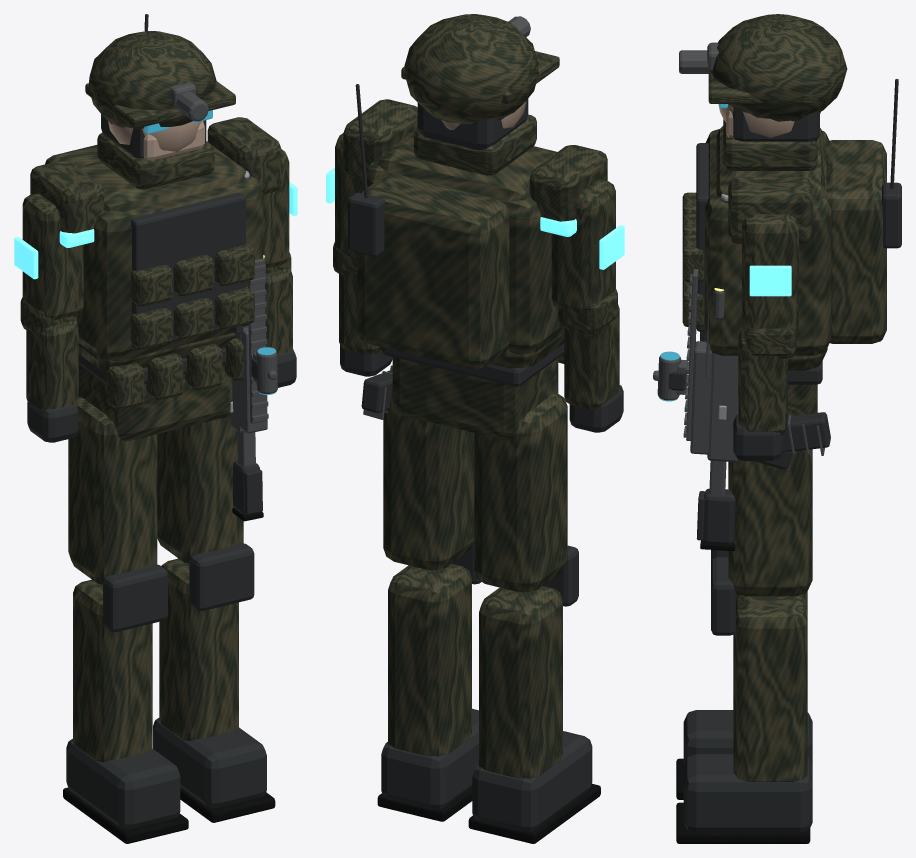
File: soldier_ally.glb
3 renders of one model, left to right at view 1: azimuth 30°, elevation 25°; view 2: azimuth 150°, elevation 25°; view 3: azimuth 270°, elevation 25°, orthographic. The views are drawn at different scales.
Visible parts, largest first — view 1: Thigh.002, Shin.002, Shin.003, Thigh.003, PlateCarrier.001, Helmet.001, FrontPlate.001, Boot.002, Boot.003, UpperArm.002, Pelvis.001, Chest.001 (+37 smaller); view 2: Backpack.001, Thigh.002, Shin.003, Shin.002, Thigh.003, Helmet.001, Pelvis.001, PlateCarrier.001, Boot.002, UpperArm.002, Chest.001, Boot.003 (+18 smaller); view 3: Shin.003, Backpack.001, Thigh.003, Helmet.001, PlateCarrier.001, Boot.003, UpperArm.003, ShoulderR.001, Forearm.003, Collar.001, Receiver_Lower.001, Boot.002 (+22 smaller).
Boxes of the visible parts, x1,y1,x2,y2 form: Thigh.002: (68, 397, 157, 584); Shin.002: (73, 579, 152, 762); Shin.003: (159, 558, 238, 741); Thigh.003: (157, 413, 243, 563); PlateCarrier.001: (77, 176, 263, 361); Helmet.001: (88, 31, 216, 128); FrontPlate.001: (130, 192, 245, 350); Boot.002: (66, 739, 180, 829); Boot.003: (153, 718, 266, 807); UpperArm.002: (22, 193, 83, 320); Pelvis.001: (78, 364, 232, 441); Chest.001: (78, 145, 245, 371); Backpack.001: (357, 174, 509, 368); Thigh.002: (474, 393, 567, 592); Shin.003: (388, 564, 471, 756); Shin.002: (479, 586, 562, 778); Thigh.003: (383, 389, 474, 570); Helmet.001: (404, 14, 538, 124); Pelvis.001: (392, 357, 558, 440); PlateCarrier.001: (366, 160, 564, 354); Boot.002: (472, 731, 592, 832); UpperArm.002: (551, 179, 615, 312); Chest.001: (378, 129, 564, 368); Boot.003: (381, 708, 478, 810); Shin.003: (733, 595, 807, 781); Backpack.001: (826, 140, 886, 343); Thigh.003: (728, 449, 812, 596); Helmet.001: (711, 14, 847, 121); PlateCarrier.001: (705, 129, 831, 355); Boot.003: (683, 754, 812, 832); UpperArm.003: (742, 214, 798, 331); ShoulderR.001: (728, 177, 812, 243); Forearm.003: (738, 329, 787, 434); Collar.001: (723, 119, 817, 170); Receiver_Lower.001: (707, 352, 738, 462); Boot.002: (683, 710, 812, 765).
Size of the model in its own units: 0.642 by 1.75 by 0.5021.
10 materials, 3 textured.
